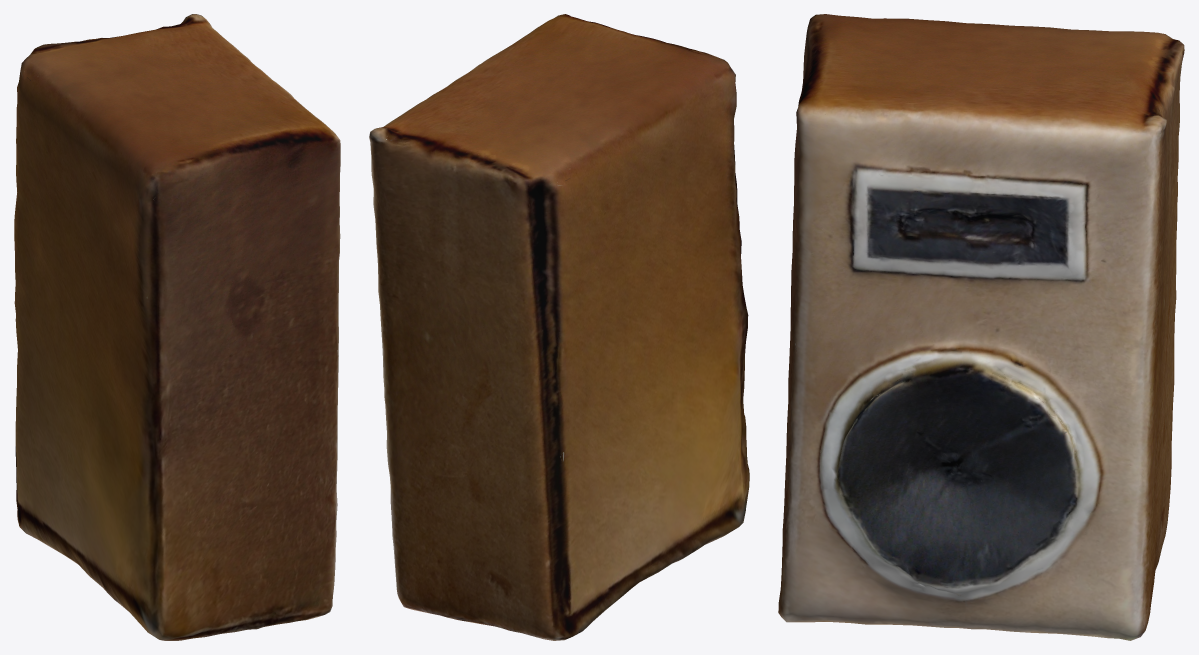
The model's file is speaker.fbx.
The picture shows the model from 3 angles, left to right: view 1: azimuth 30°, elevation 25°; view 2: azimuth 150°, elevation 25°; view 3: azimuth 270°, elevation 25°; orthographic projection. The views are drawn at different scales.
Visible parts, largest first — view 1: Mesh_0.001; view 2: Mesh_0.001; view 3: Mesh_0.001.
Boxes of the visible parts, left/top/right/bottom form: Mesh_0.001: left=14, top=14, right=340, bottom=640; Mesh_0.001: left=369, top=14, right=749, bottom=640; Mesh_0.001: left=778, top=14, right=1184, bottom=640.
Bounding box in the file's own units: 18.89 × 40.37 × 27.36.
